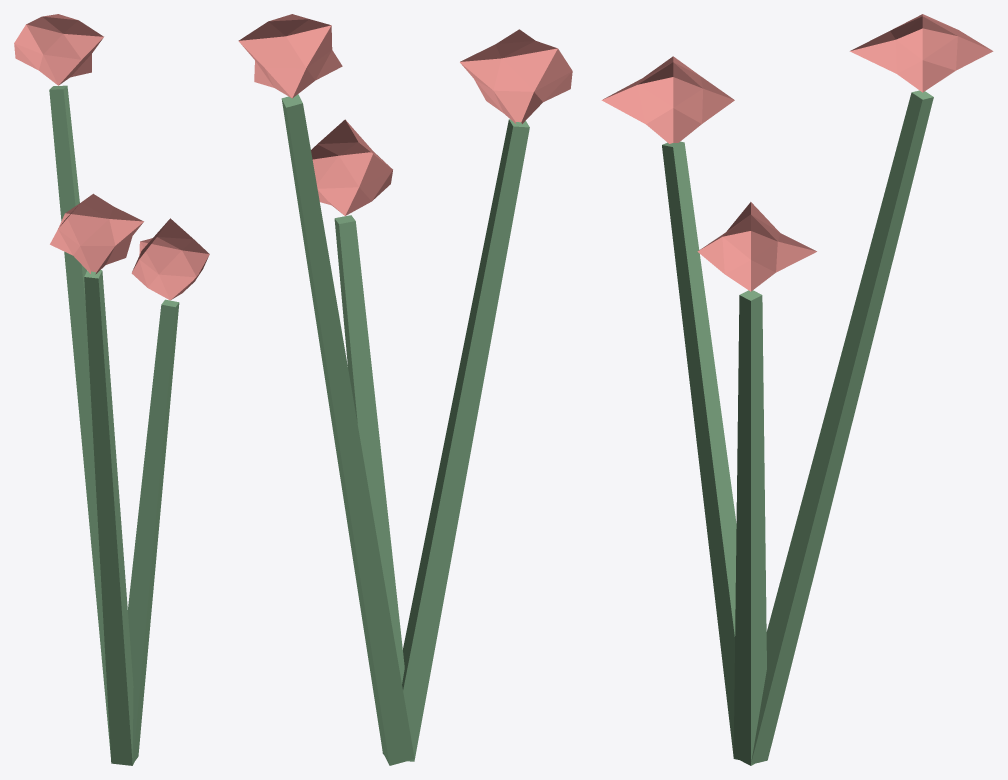
File: flower_v49.glb
The picture shows the model from 3 angles, left to right: view 1: azimuth 30°, elevation 25°; view 2: azimuth 150°, elevation 25°; view 3: azimuth 270°, elevation 25°; orthographic projection. The views are drawn at different scales.
Visible parts, largest first — view 1: lod0; view 2: lod0; view 3: lod0.
Boxes of the visible parts, bbox=[...] form: lod0: bbox=[14, 14, 209, 765]; lod0: bbox=[238, 14, 572, 765]; lod0: bbox=[601, 14, 993, 765].
Size of what is drawn, in the model's own units: 0.2582 by 0.867 by 0.4093.
